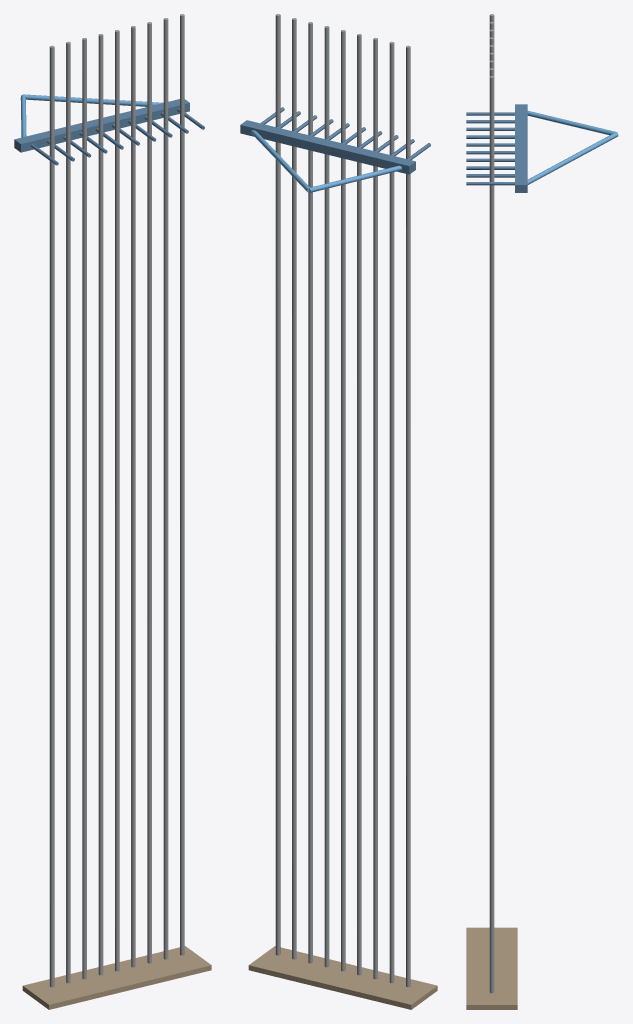
The model's file is setback.glb.
3 renders of one model, left to right at view 1: azimuth 30°, elevation 25°; view 2: azimuth 150°, elevation 25°; view 3: azimuth 270°, elevation 25°, orthographic. The views are drawn at different scales.
Size of the model in its own units: 5.2 by 27.9 by 4.15.
